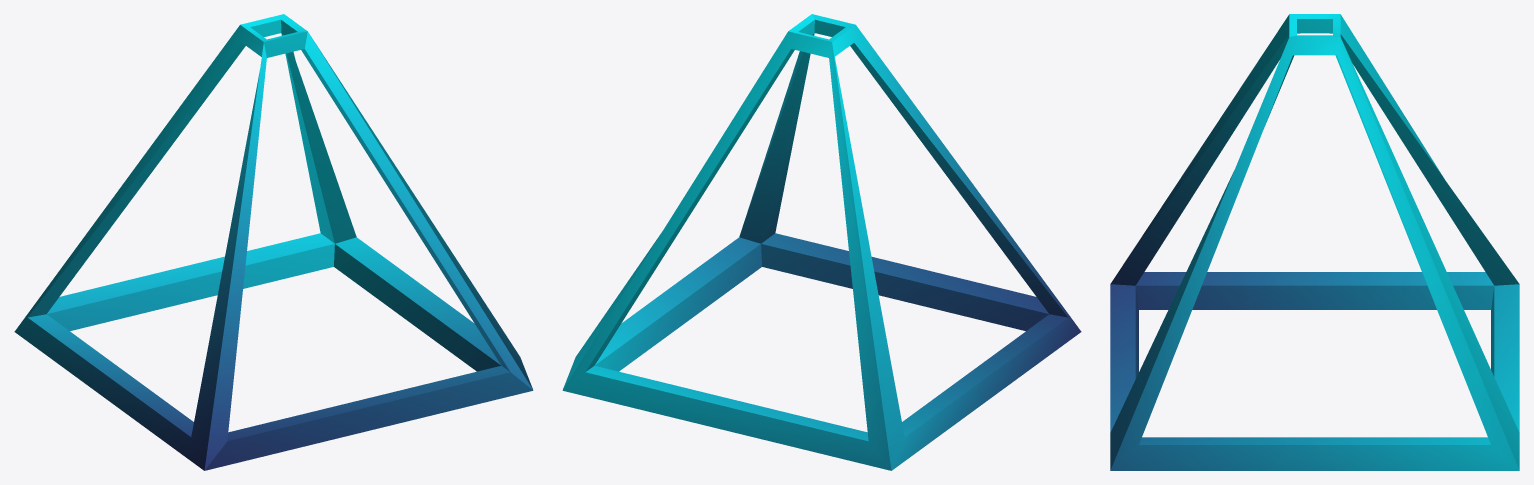
The model's file is POL0110031.fbx.
3 renders of one model, left to right at view 1: azimuth 30°, elevation 25°; view 2: azimuth 150°, elevation 25°; view 3: azimuth 270°, elevation 25°, orthographic. The views are drawn at different scales.
Parts seen in each view (by area): view 1: smPOL0110031; view 2: smPOL0110031; view 3: smPOL0110031.
Boxes of the visible parts, box(x1,y1,x2,y2) form: smPOL0110031: box(14, 14, 533, 470); smPOL0110031: box(562, 14, 1081, 470); smPOL0110031: box(1110, 14, 1519, 470).
Bounding box in the file's own units: 268 × 259 × 268.
1 material, 1 textured.
